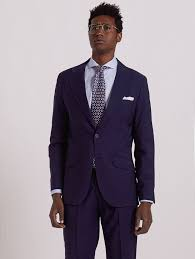F_M_suit jacket: (41, 52, 164, 207)
F_shirt: (86, 54, 117, 116)
F_tie: (91, 65, 108, 122)
